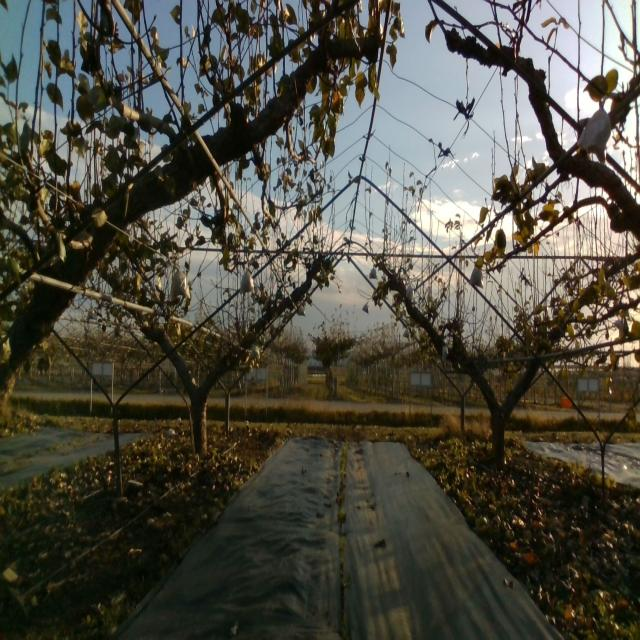pearbags: (577, 96, 612, 166), (167, 267, 190, 303), (240, 268, 254, 294), (470, 267, 484, 289)
